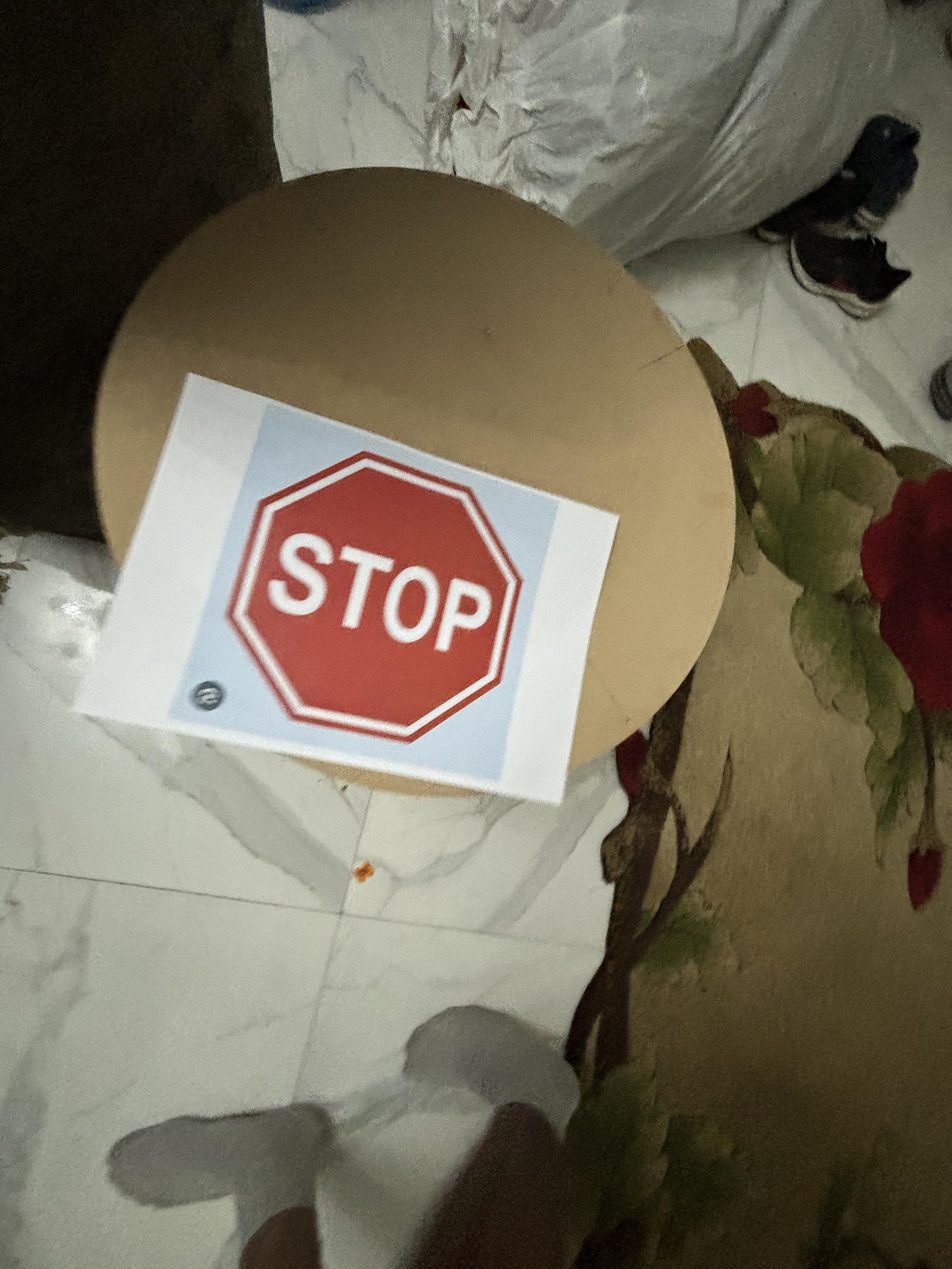Stop: (218, 448, 530, 747)
